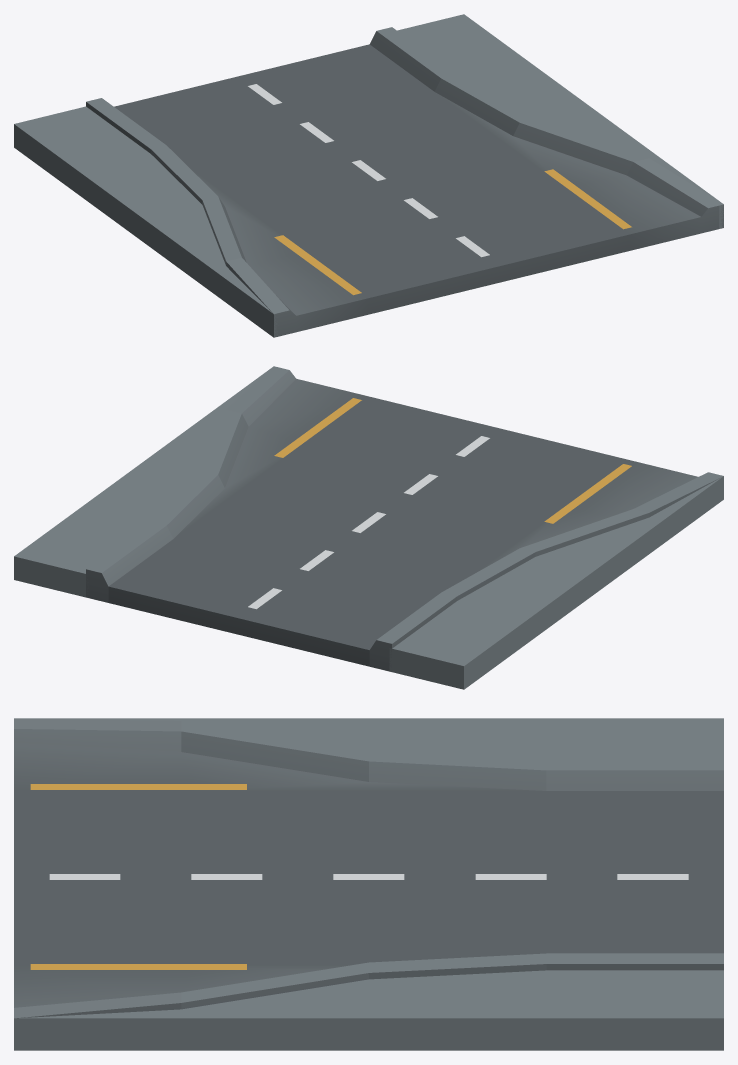
File: road_narrow_entry.glb
The picture shows the model from 3 angles, top to bottom: view 1: azimuth 30°, elevation 25°; view 2: azimuth 150°, elevation 25°; view 3: azimuth 270°, elevation 25°; orthographic projection. The views are drawn at different scales.
Parts seen in each view (by area): view 1: road_narrow_entry; view 2: road_narrow_entry; view 3: road_narrow_entry.
Part boxes in pixels (<box>): road_narrow_entry: <box>14,14,723,337</box>; road_narrow_entry: <box>14,366,723,689</box>; road_narrow_entry: <box>14,718,723,1050</box>.
Size of what is drawn, in the model's own units: 10 by 0.6 by 10.
Materials: 1 (1 with a texture image).
